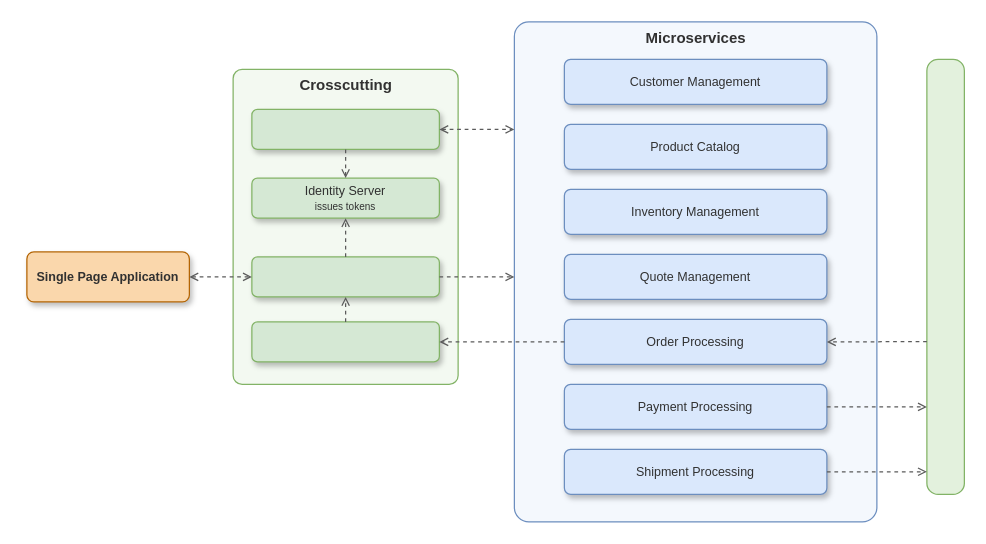
Image size: 986x544. Some labels were removed from this diagram. Each missing label, with the centre of its shape:
"API Gateway" belongs at point (346, 278).
"Message Broker" belongs at point (945, 276).
"Service Clients" belongs at point (346, 130).
"SignalR" belongs at point (346, 343).
